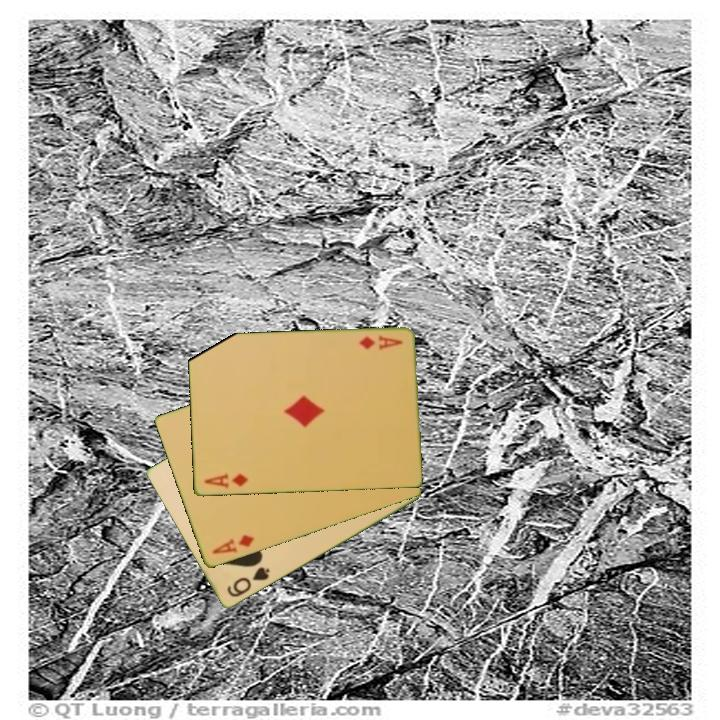6s: (223, 564, 273, 600)
Ad: (208, 531, 257, 558), (201, 470, 251, 491), (355, 332, 405, 353)
